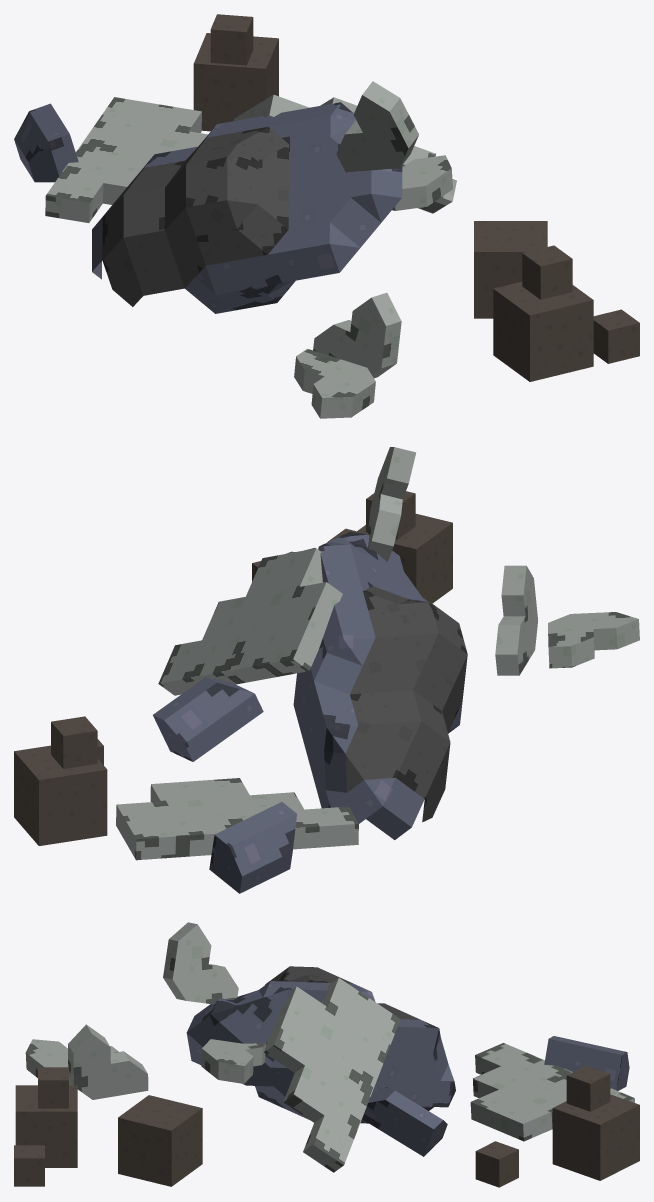
The model's file is C2_Garbage_02-6.FBX.
3 views of the same model, one above another, from view 1: azimuth 30°, elevation 25°; view 2: azimuth 150°, elevation 25°; view 3: azimuth 270°, elevation 25° (orthographic). The views are drawn at different scales.
Visible parts, largest first — view 1: Object004; view 2: Object004; view 3: Object004.
Part boxes in pixels (bbox=[...]): Object004: bbox=[14, 14, 639, 418]; Object004: bbox=[14, 447, 639, 893]; Object004: bbox=[14, 922, 639, 1187].
Size of the model in its own units: 116 by 98.83 by 239.
Materials: 1 (1 with a texture image).
